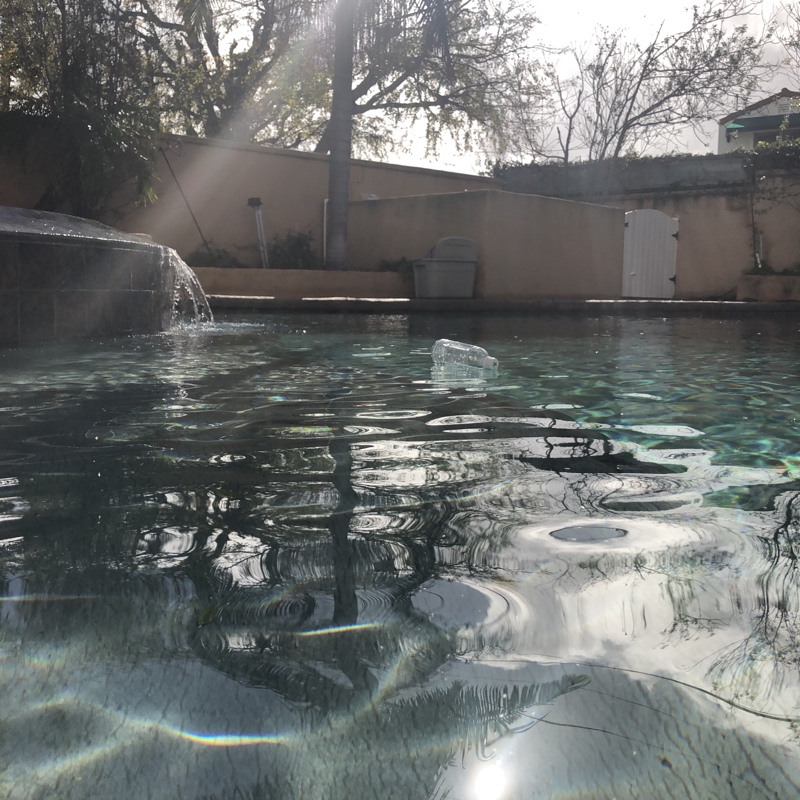Plastic Bottle: (429, 335, 501, 375)
